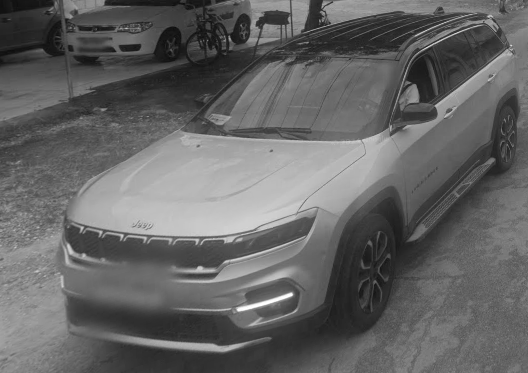car: (62, 12, 519, 345)
